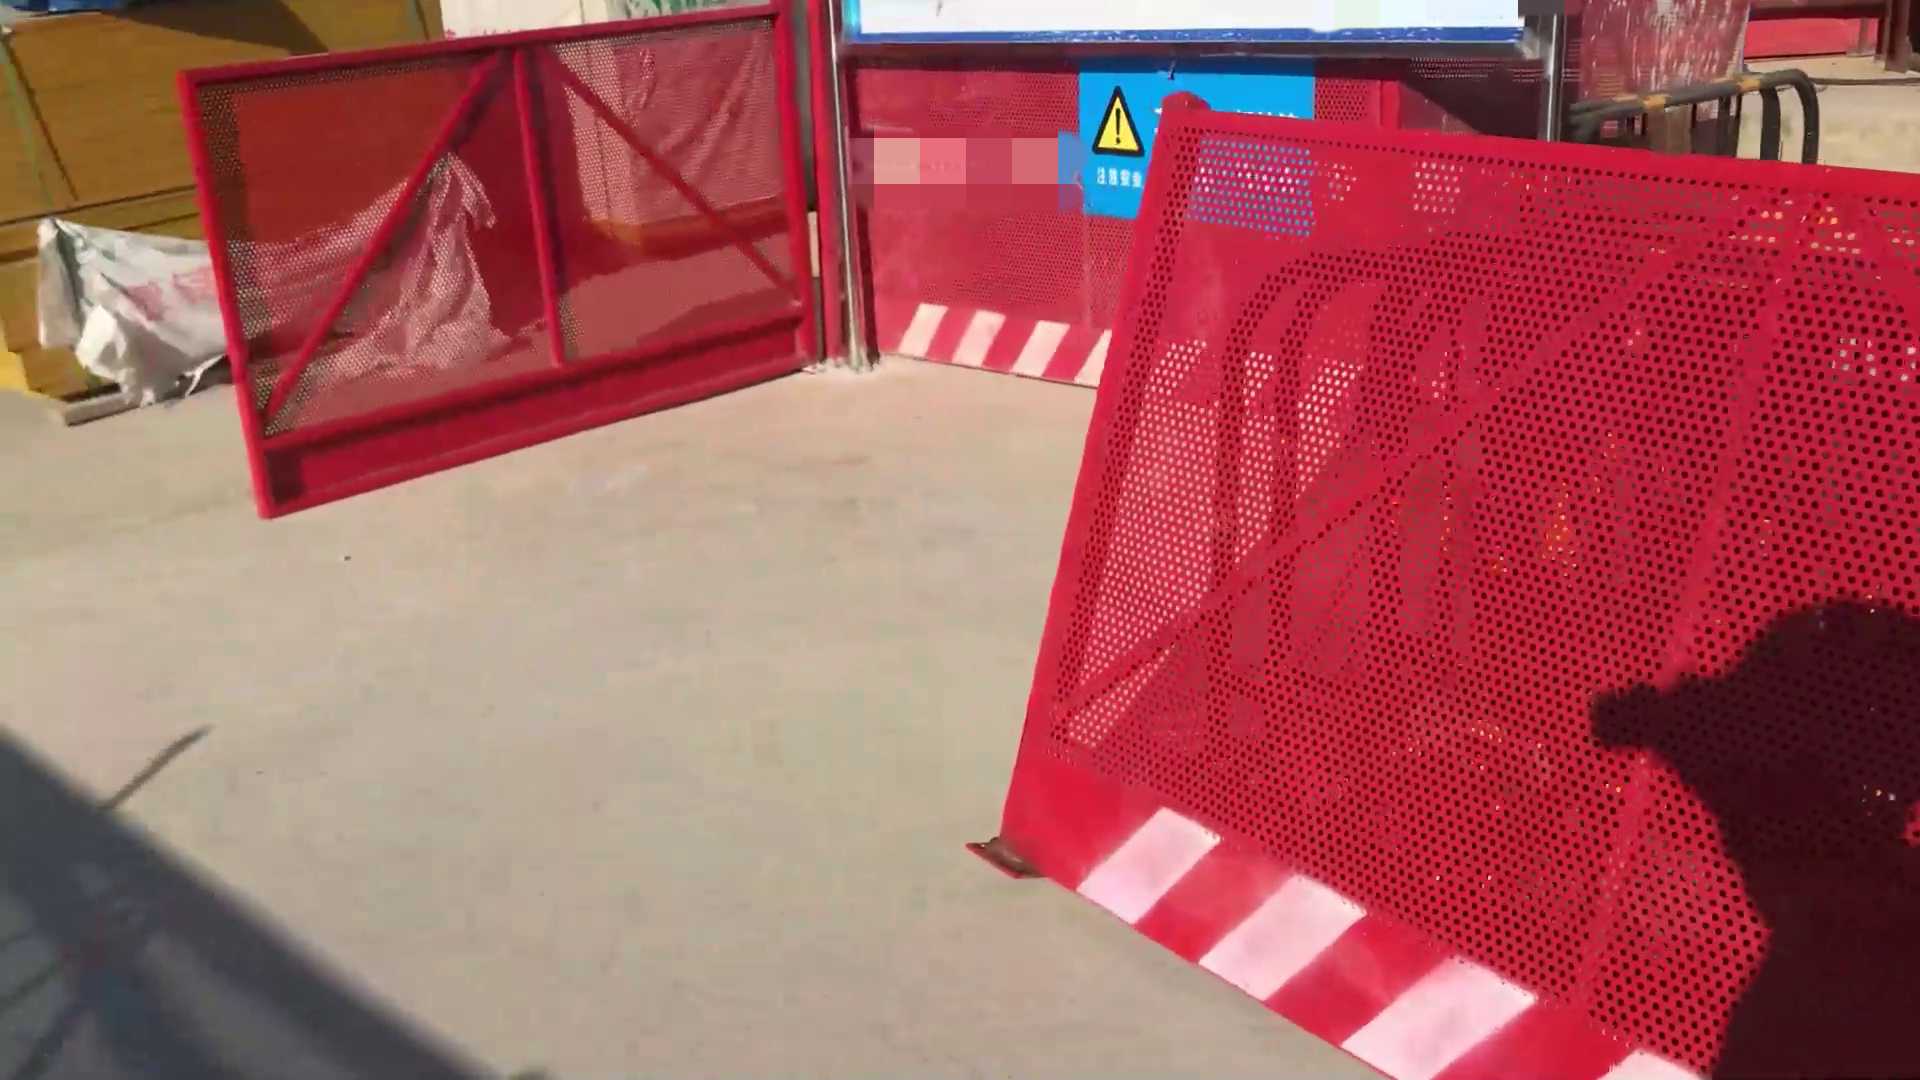board: (5, 7, 204, 407)
fence: (1038, 91, 1917, 1080), (171, 7, 827, 526), (843, 37, 1396, 397)
slogan: (1073, 69, 1153, 222)
